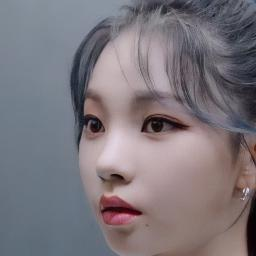face: (83, 46, 227, 254)
